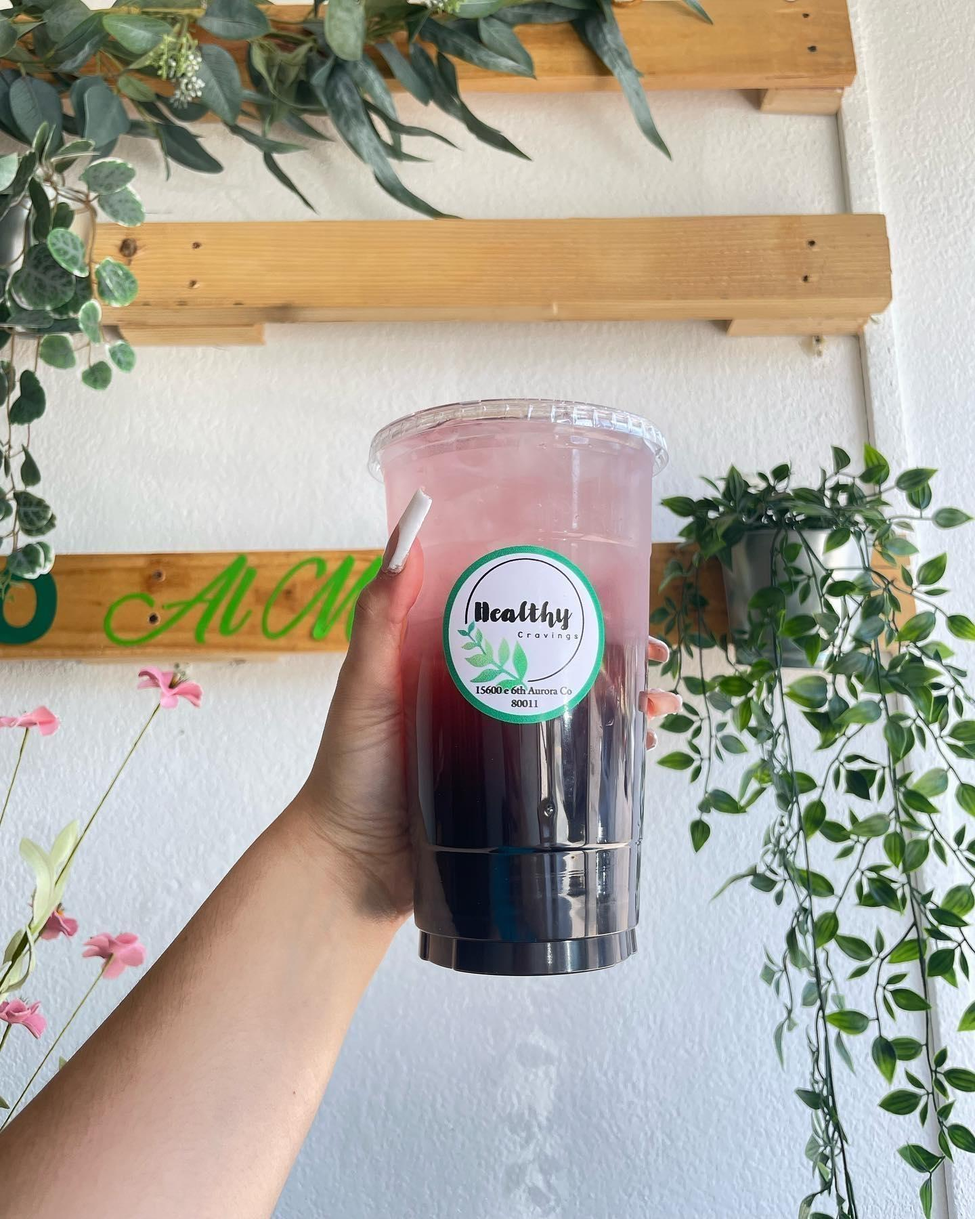cup-disposable: (360, 387, 676, 983)
